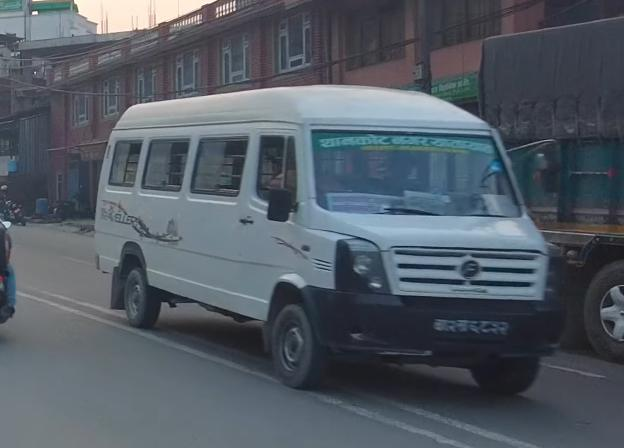micro_bus: (86, 81, 565, 399)
